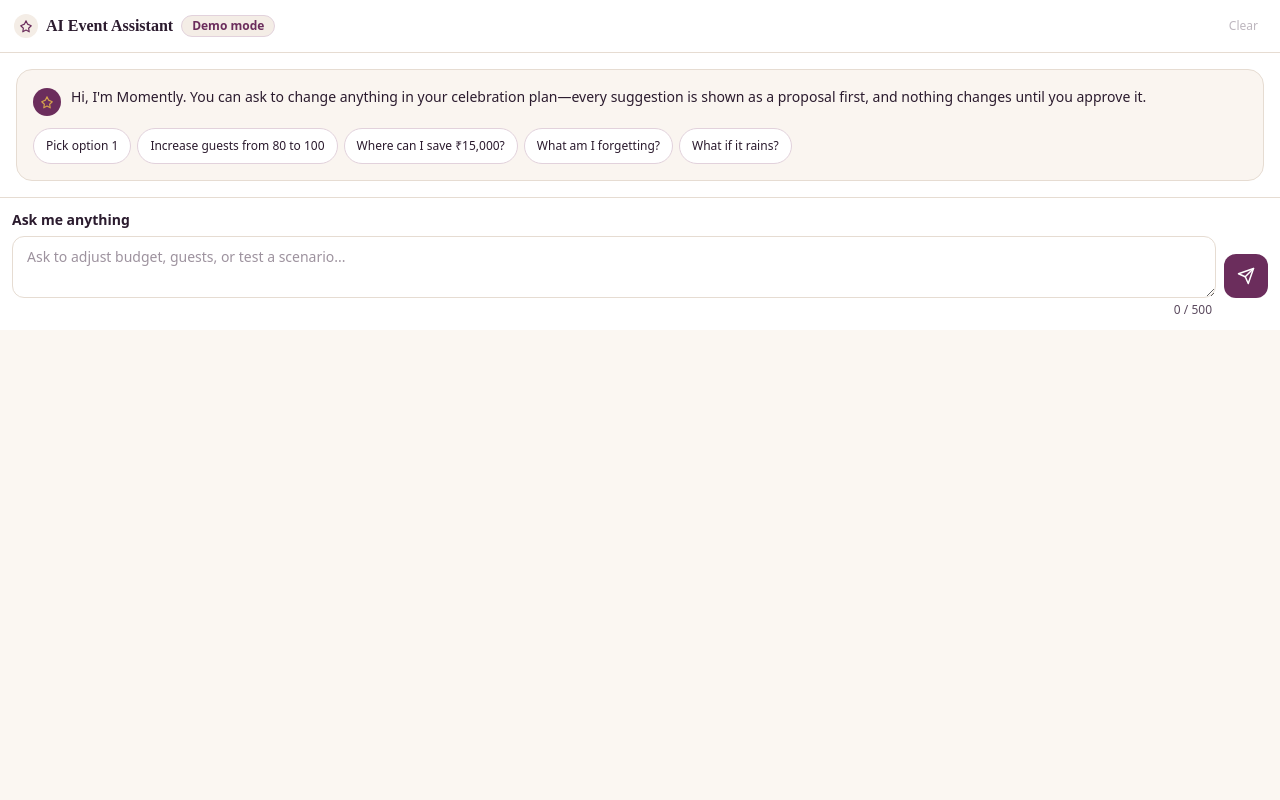
UI: Chat Interactions, Errors, Drafts & Intake Mode › shows wait time on rate_limited error, retry message on network failure, and retryLast re-sends
This screenshot has width=1280, height=800.
Step 1. Type "What am I forgetting?" into the text box labelled "Ask me anything" → [614, 267], box 12,236 -> 1216,298
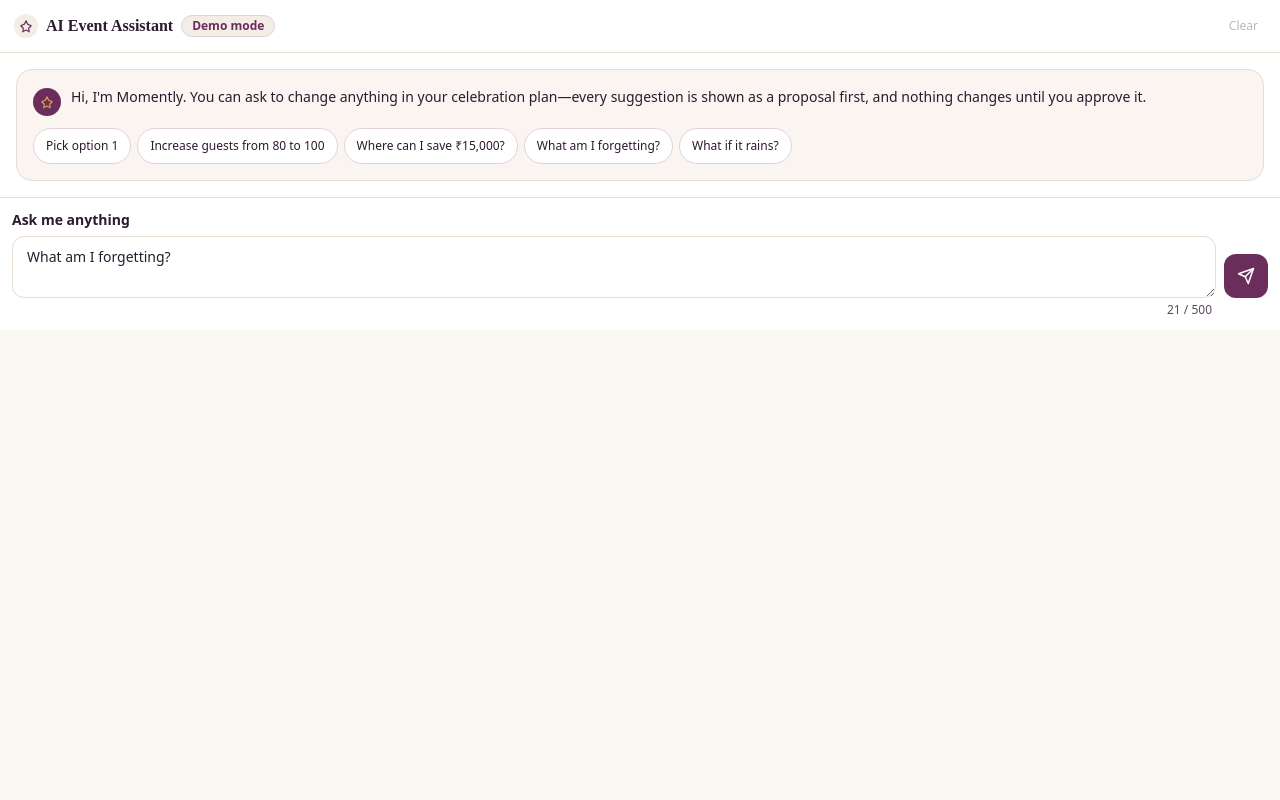
Step 2. Click the button named "Send message" → [1246, 276], box 1224,254 -> 1268,298
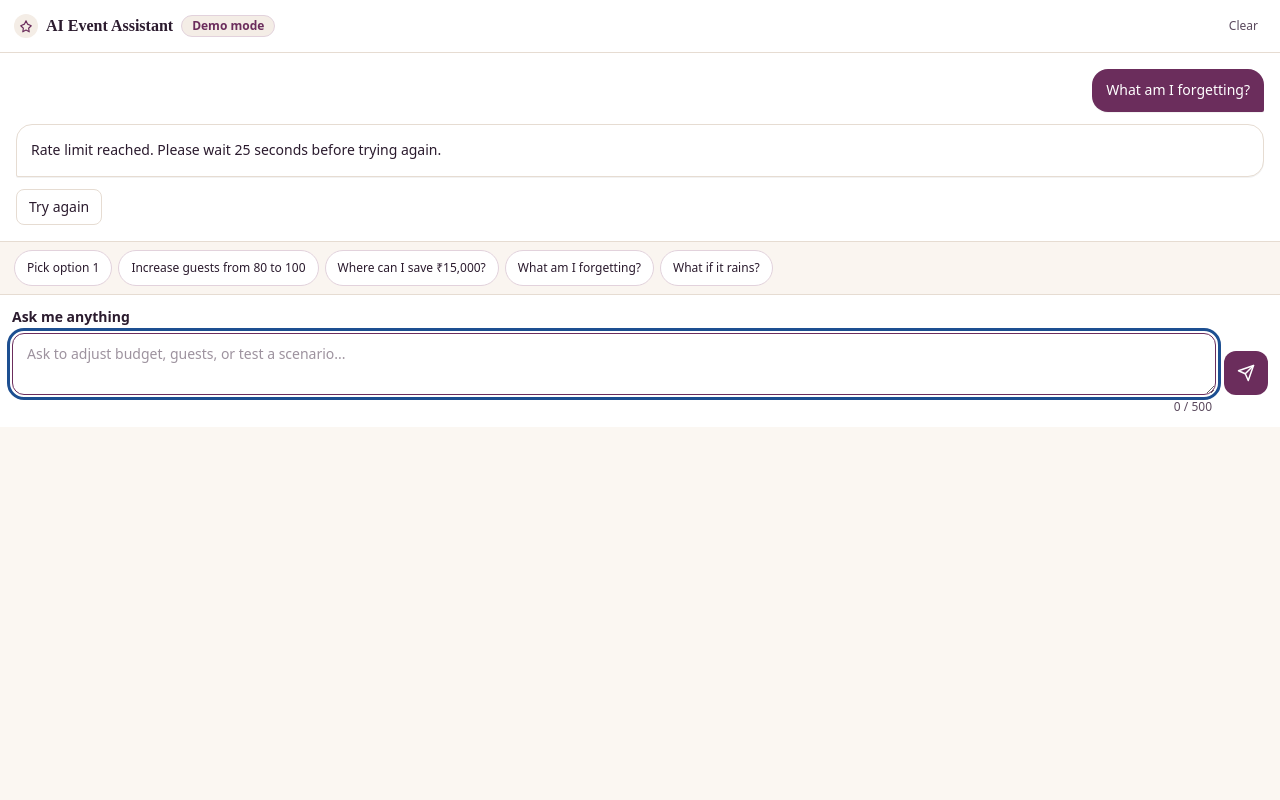
Expected: the text "wait 25 seconds" is shown, 31,140 -> 441,159
Step 3. Click the button "Try again" → [59, 206], box 16,188 -> 102,224
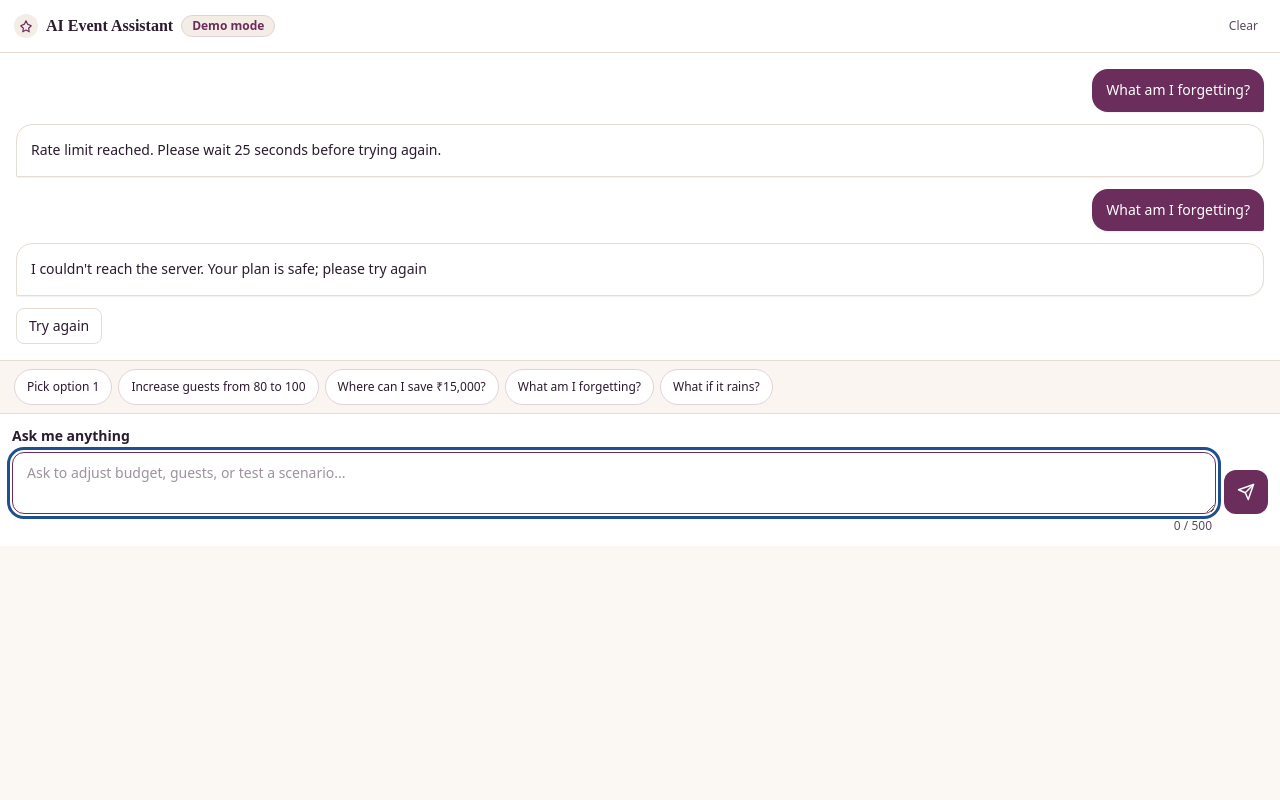
Expected: the text "I couldn't reach the server. Your plan is safe; please try again" is shown, 31,259 -> 427,278
Step 4. Click the button "Try again" → [59, 326], box 16,308 -> 102,344
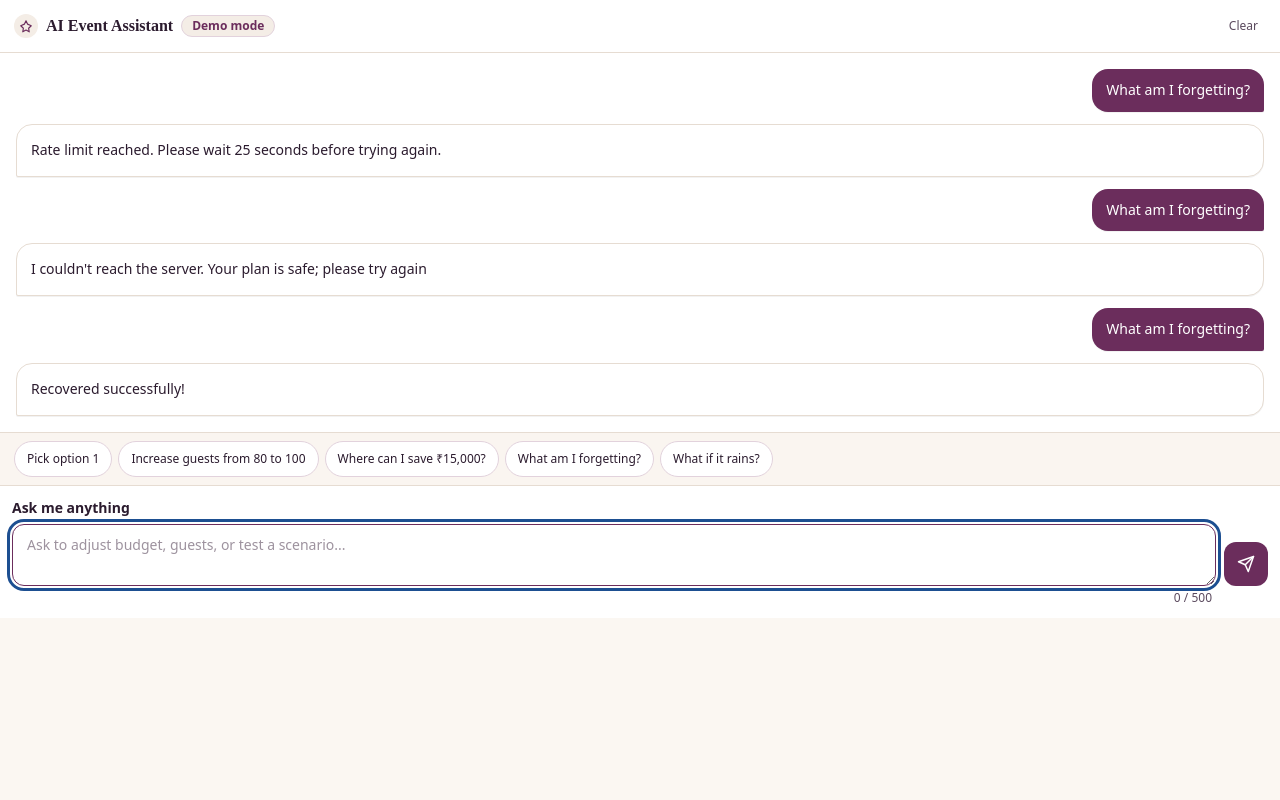
Expected: the text "Recovered successfully!" is shown, 31,379 -> 185,398
